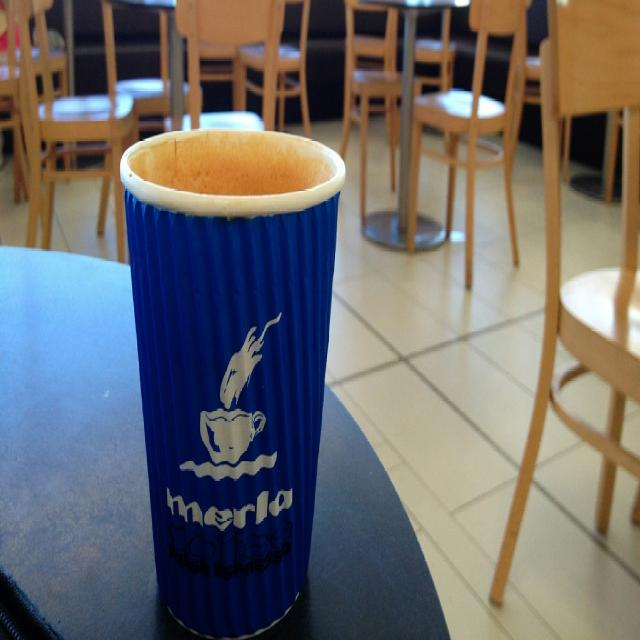Coffee: (122, 115, 358, 640), (130, 138, 327, 196)
